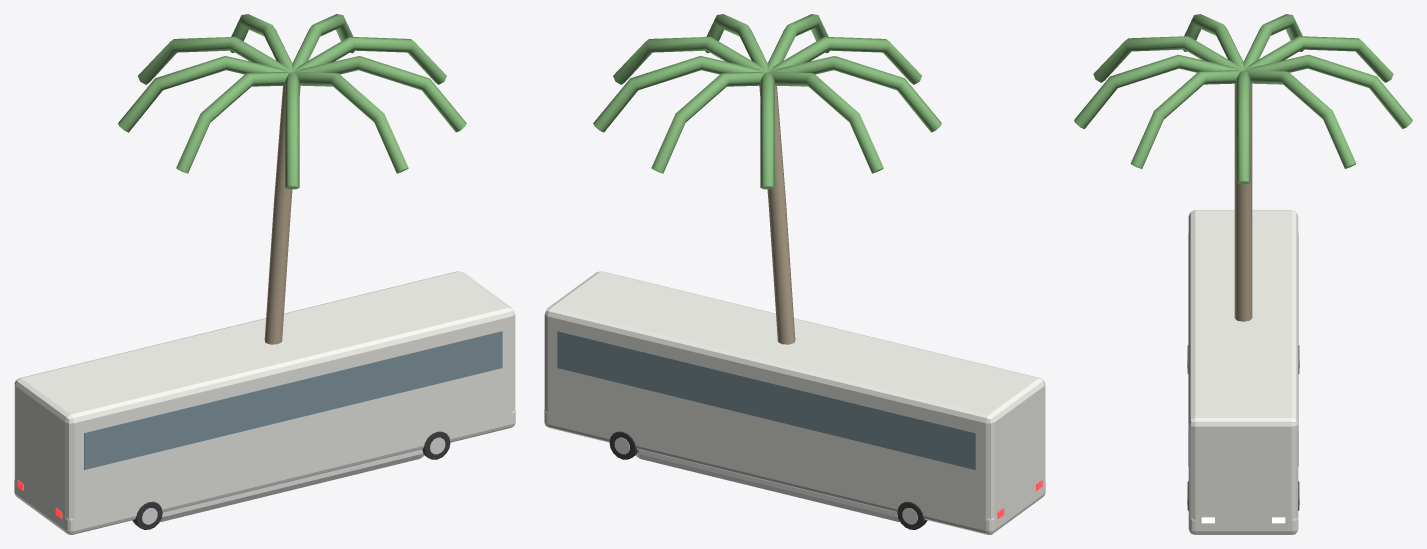
File: props.glb
3 renders of one model, left to right at view 1: azimuth 30°, elevation 25°; view 2: azimuth 150°, elevation 25°; view 3: azimuth 270°, elevation 25°, orthographic. The views are drawn at different scales.
Parts seen in each view (by area): view 1: KEEP Car bus red, KEEP Palm, bus_paint, KEEP Boat; view 2: KEEP Car bus red, KEEP Palm, bus_paint, KEEP Boat; view 3: KEEP Car bus red, KEEP Palm, bus_paint.
Part boxes in pixels (bbox=[...]): KEEP Car bus red: bbox=[14, 271, 515, 529]; KEEP Palm: bbox=[118, 14, 466, 344]; bus_paint: bbox=[14, 410, 515, 534]; KEEP Boat: bbox=[160, 449, 423, 521]; KEEP Car bus red: bbox=[544, 271, 1045, 529]; KEEP Palm: bbox=[593, 14, 941, 344]; bus_paint: bbox=[544, 410, 1045, 534]; KEEP Boat: bbox=[636, 449, 899, 521]; KEEP Car bus red: bbox=[1187, 210, 1299, 529]; KEEP Palm: bbox=[1074, 14, 1412, 321]; bus_paint: bbox=[1188, 517, 1298, 534].
Size of the model in its own units: 11.54 by 10.15 by 7.73.
